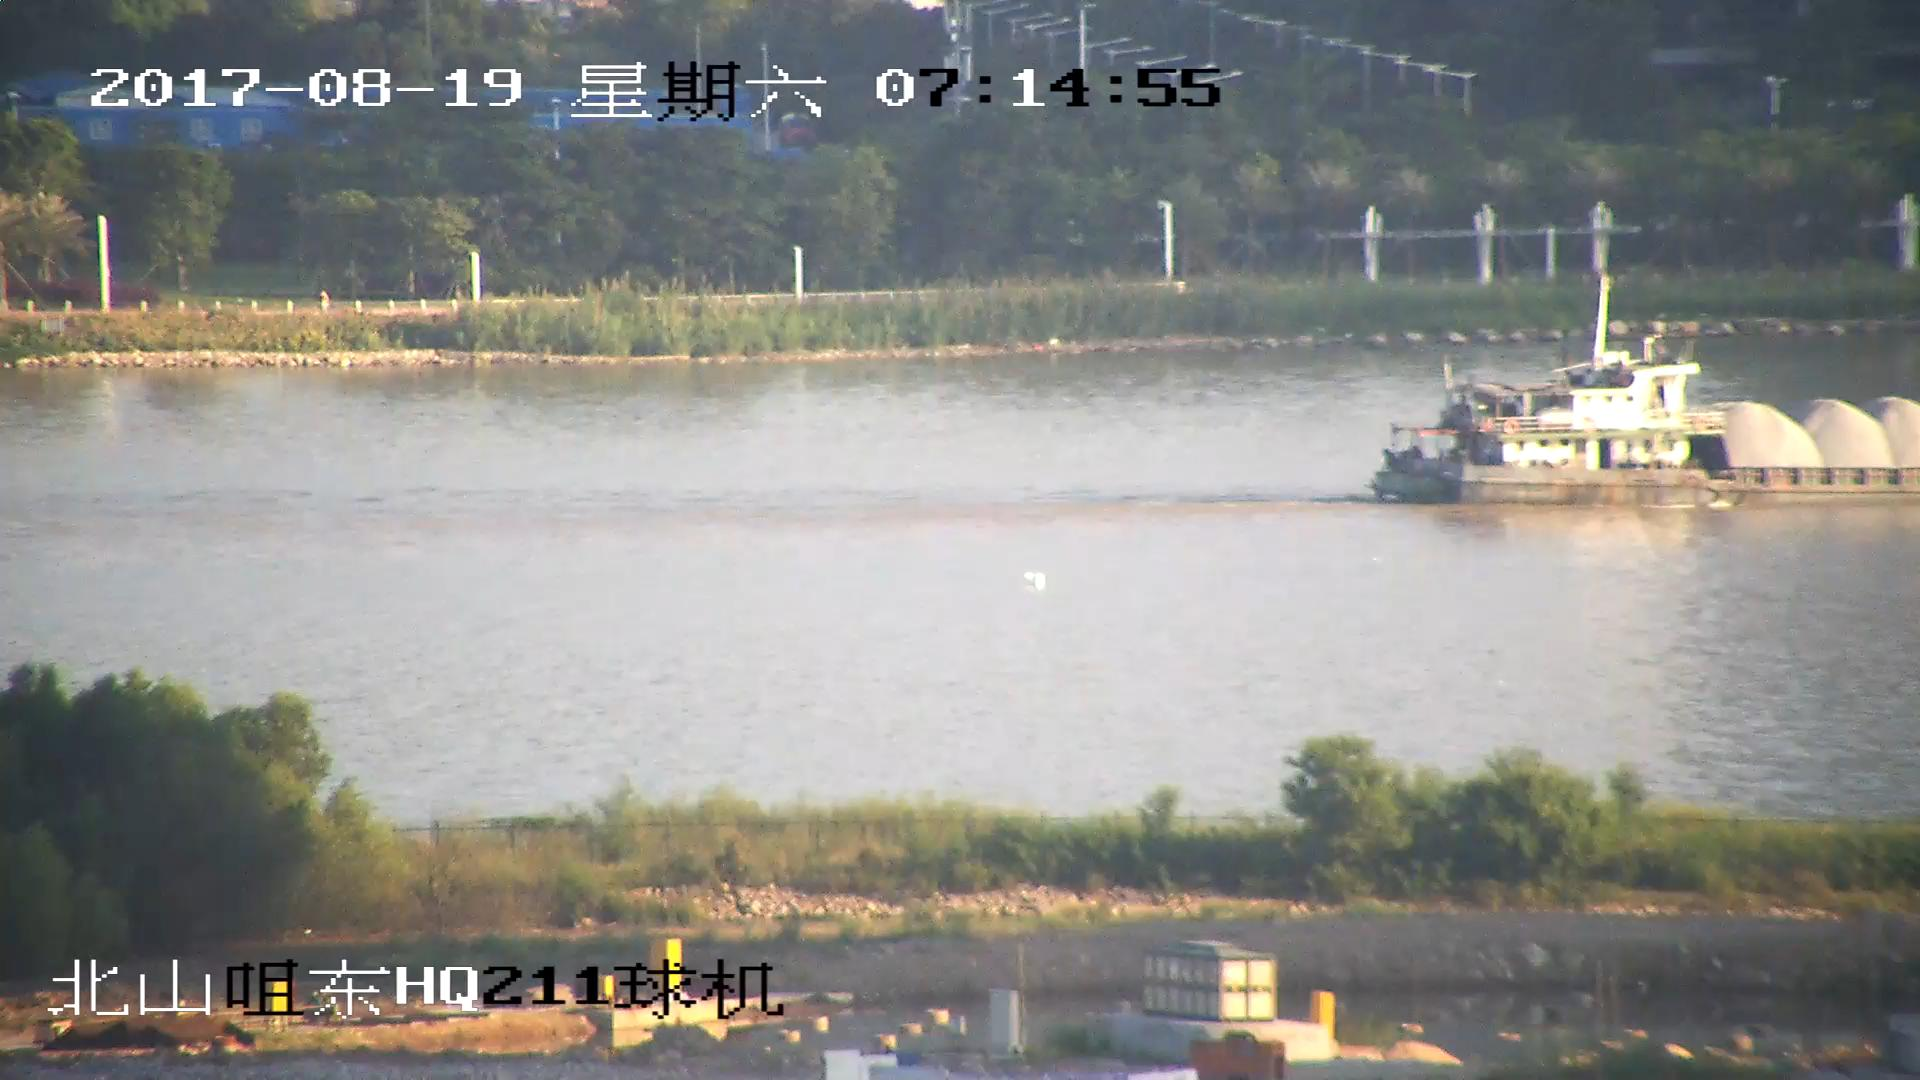ore carrier: (1369, 287, 1920, 507)
